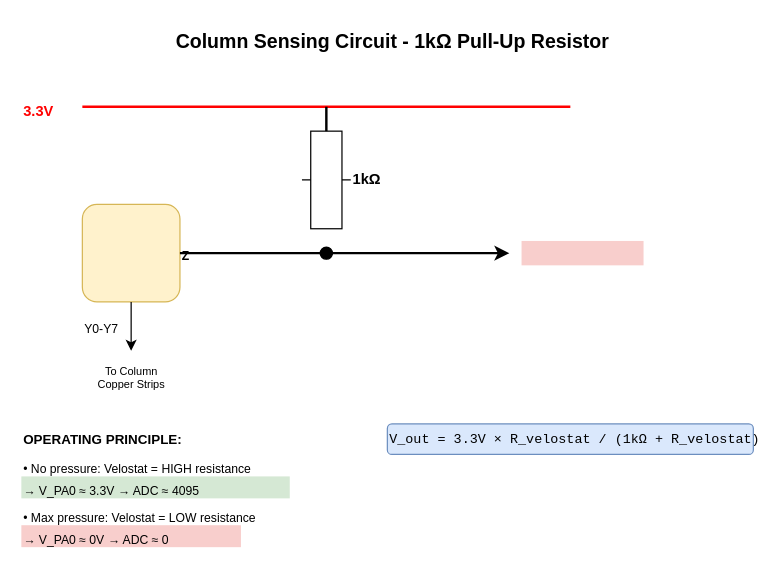
Some shapes in this 781 by 569 pixel diagram are drawn without their labels. The centre of each missing label's shape, as x and y in pixels:
Column MUX (CD4051): [130,252]
PA0 (ADC1_IN1): [582,252]
